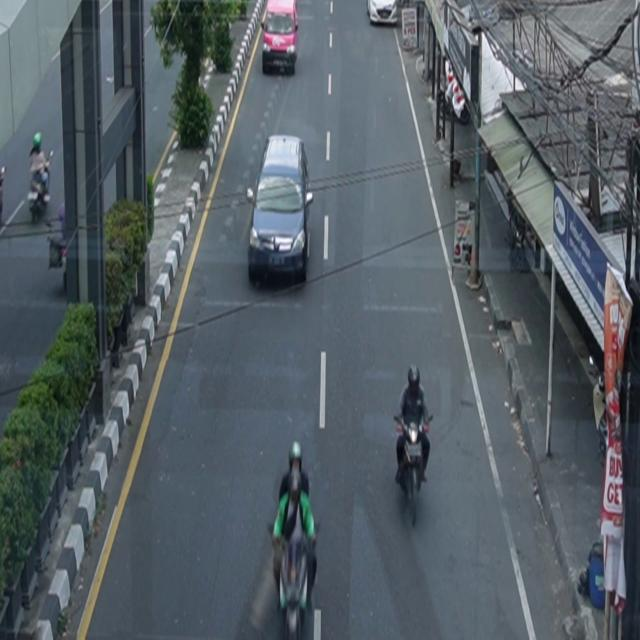car: (247, 135, 314, 285), (261, 1, 299, 76), (367, 1, 398, 26)
